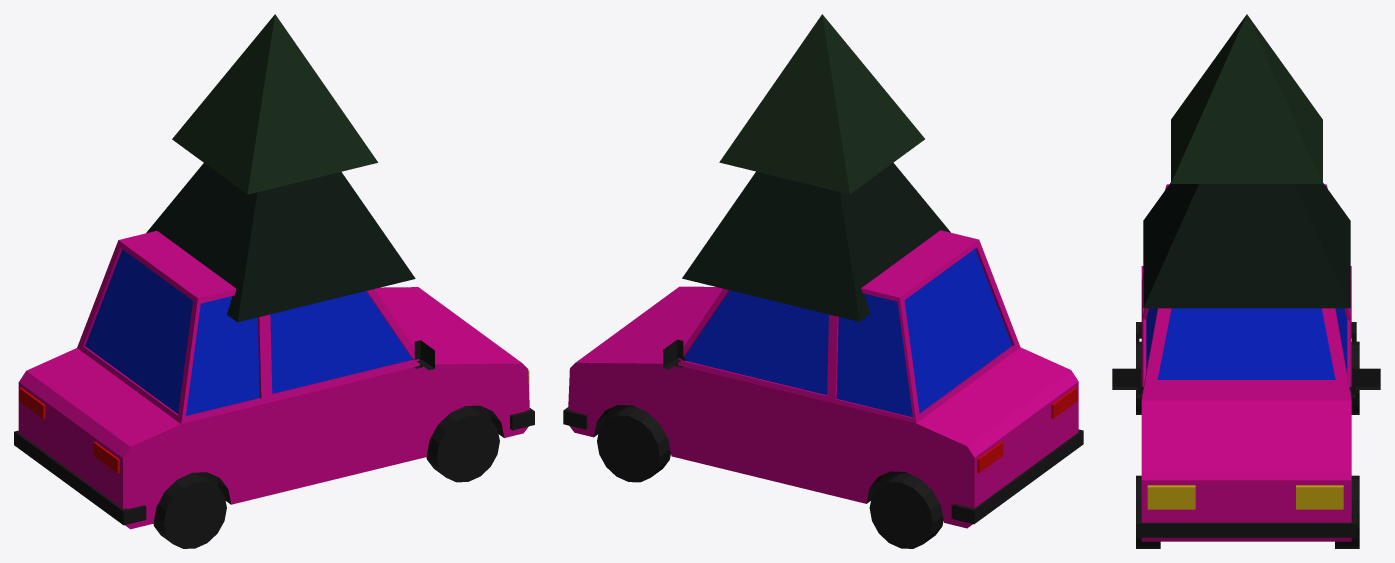
Rendered from models.obj.
3 views of the same model, side by side, from view 1: azimuth 30°, elevation 25°; view 2: azimuth 150°, elevation 25°; view 3: azimuth 270°, elevation 25° (orthographic).
Visible parts, largest first — view 1: car, tree; view 2: car, tree; view 3: car, tree.
Part boxes in pixels (box(x1,y1,x2,y2)): car: box(14, 230, 534, 548); tree: box(146, 14, 415, 322); car: box(563, 230, 1083, 548); tree: box(682, 14, 950, 321); car: box(1112, 184, 1380, 548); tree: box(1143, 14, 1350, 308).
Size of the model in its own units: 6.12 by 6.56 by 3.44.
